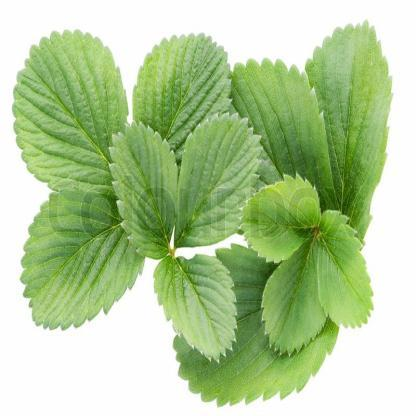Strawberry leaf: (163, 245, 334, 407), (15, 26, 140, 206), (21, 184, 147, 336), (228, 64, 341, 221), (178, 102, 267, 257), (130, 30, 232, 160), (106, 115, 184, 253), (152, 246, 243, 362), (259, 234, 333, 352), (235, 174, 321, 265), (310, 209, 374, 328)
